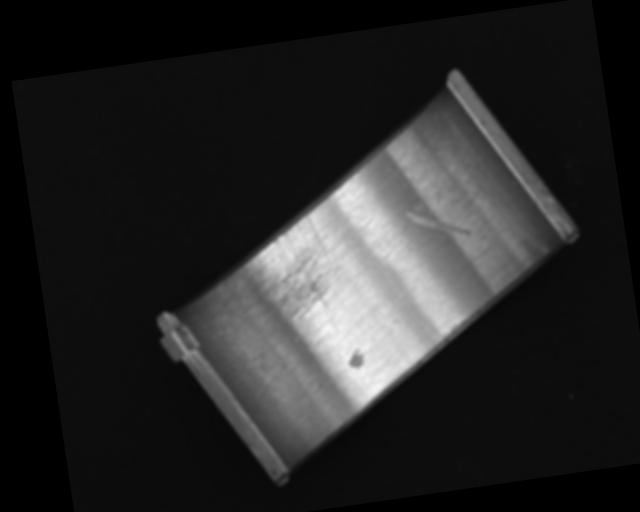bruise: (346, 347, 365, 371)
nick: (404, 196, 471, 245), (383, 161, 417, 242)
scratch: (212, 208, 352, 330)
